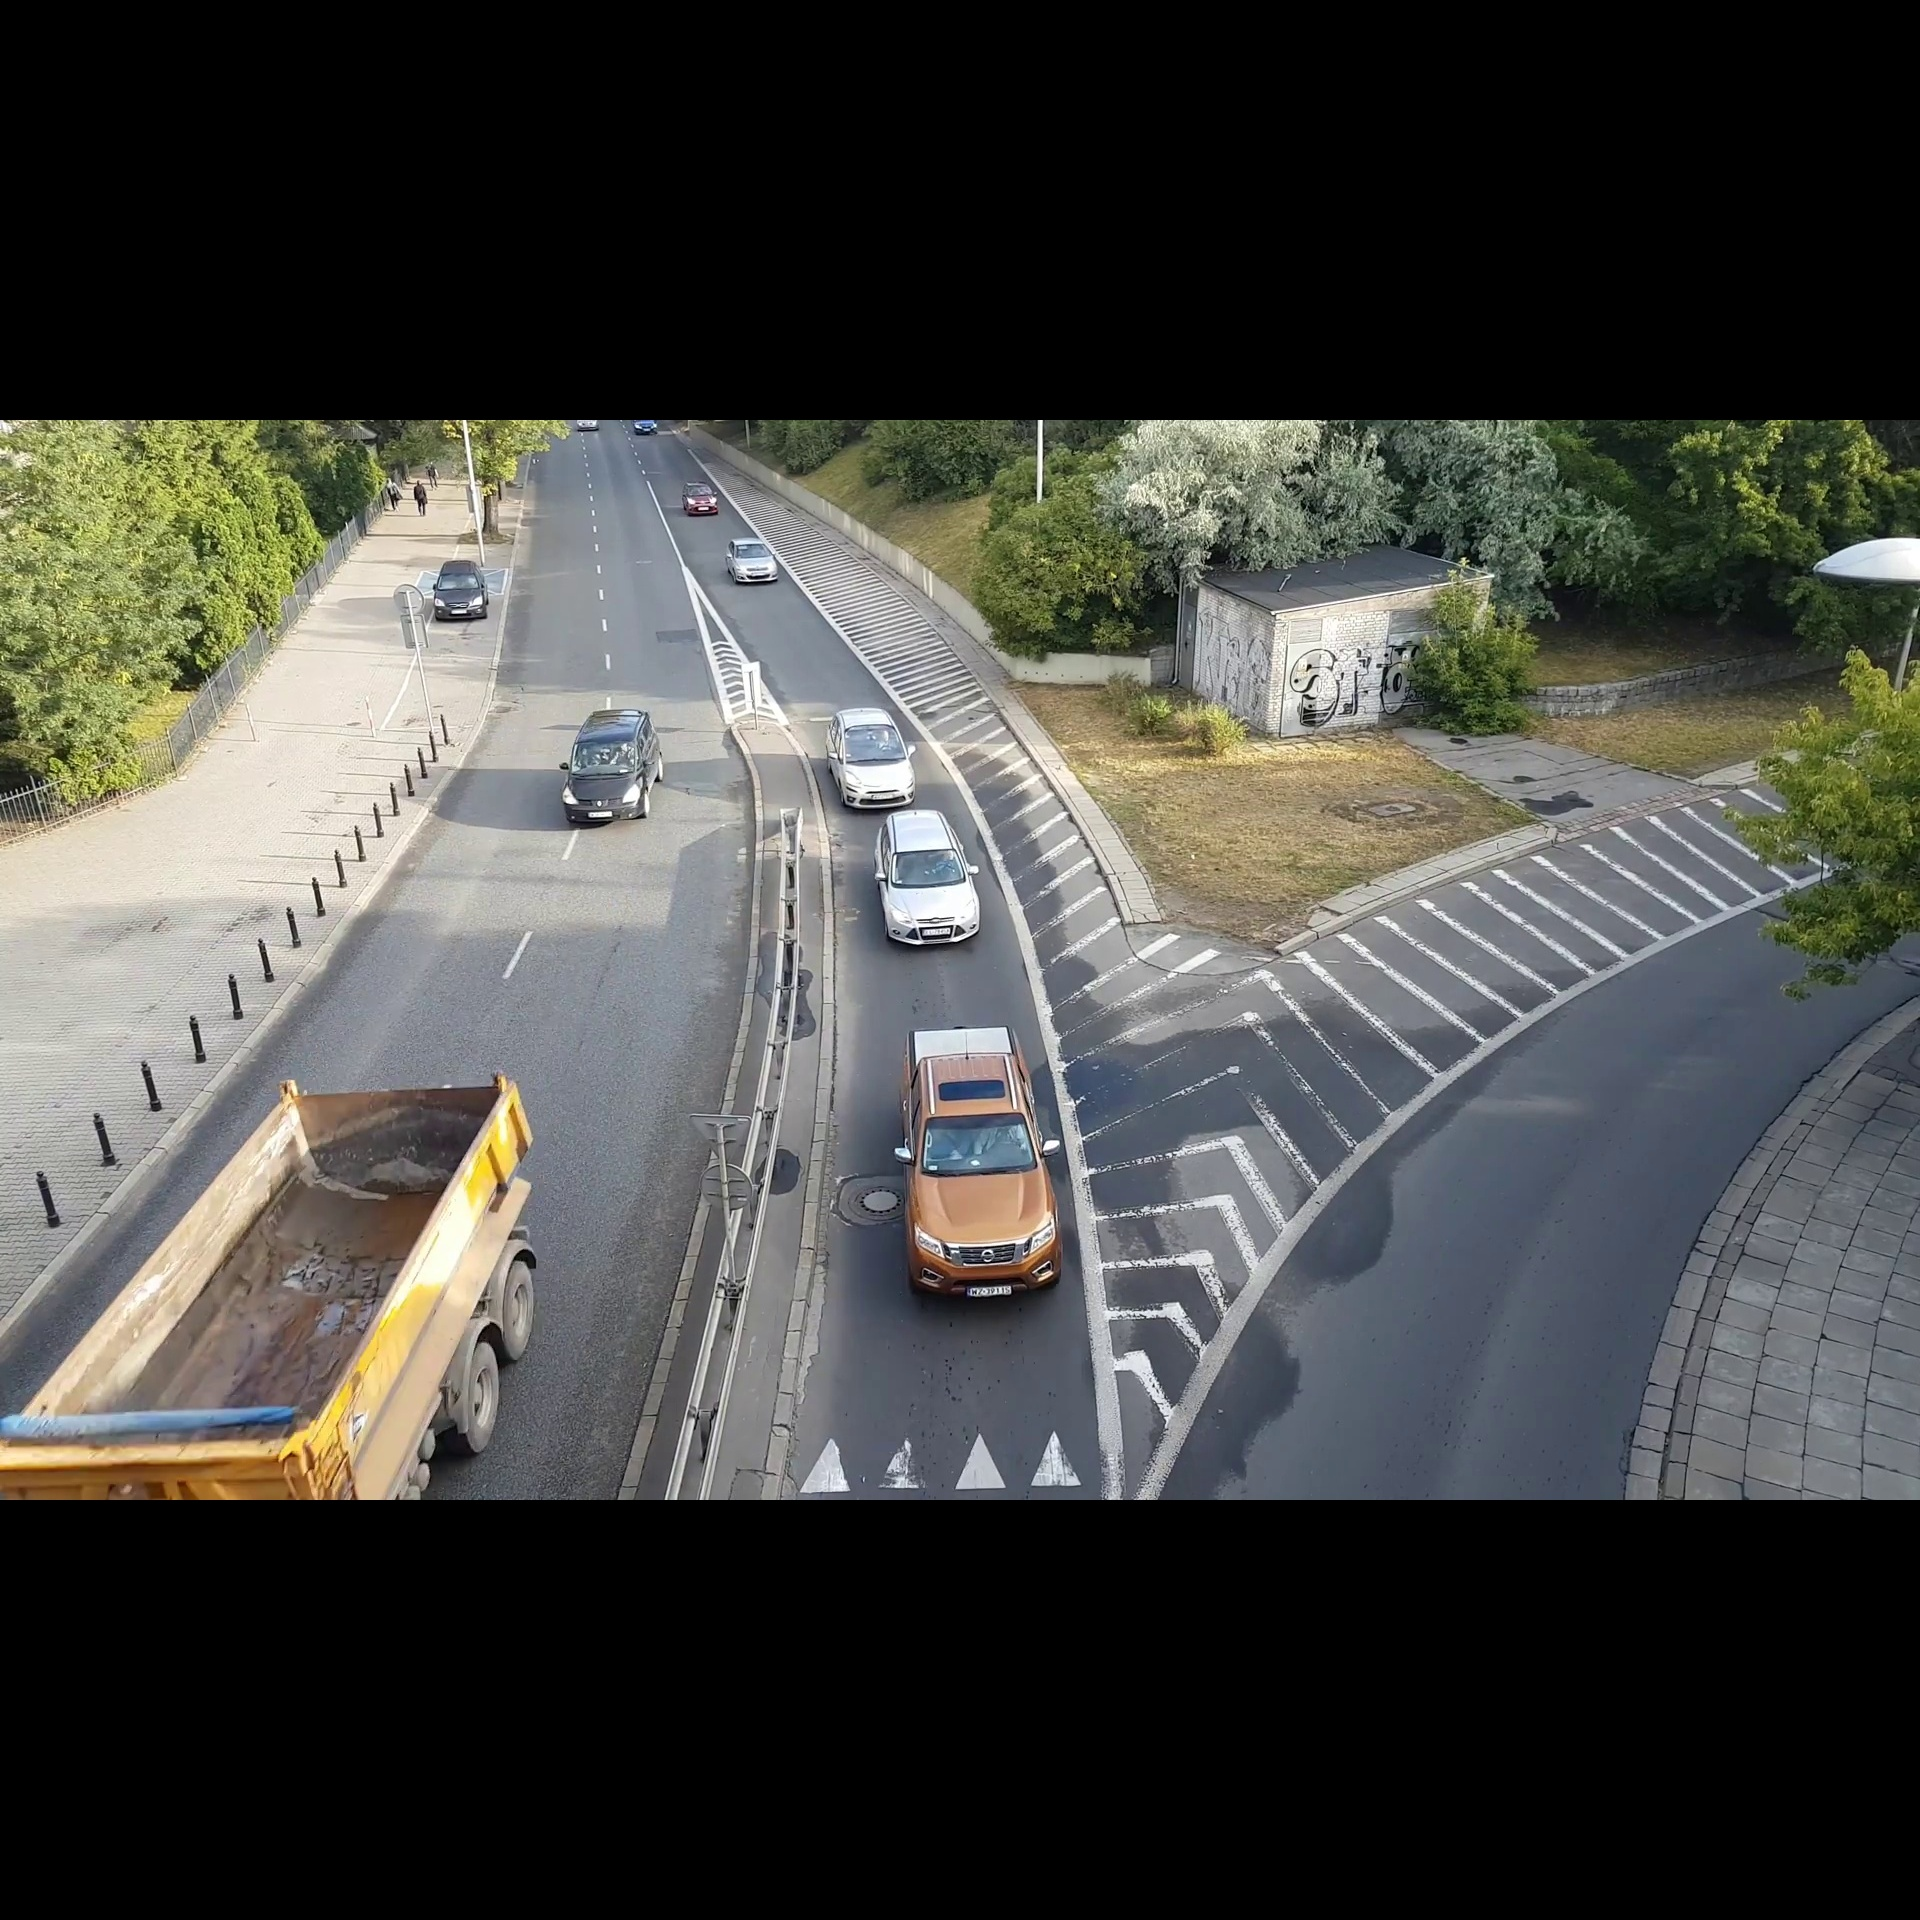vehicle: (2, 1051, 564, 1496), (888, 1015, 1074, 1313), (867, 807, 995, 956), (552, 696, 675, 835), (818, 698, 923, 818), (427, 550, 492, 626), (721, 533, 784, 587), (680, 478, 719, 515), (631, 420, 659, 438)
